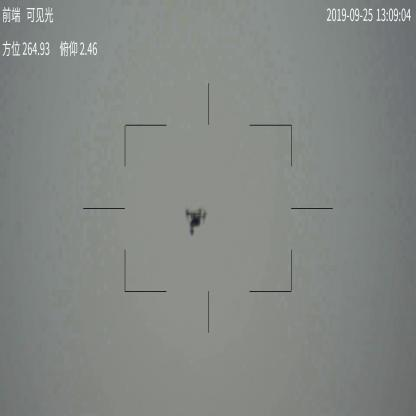uav: (185, 206, 210, 235)
